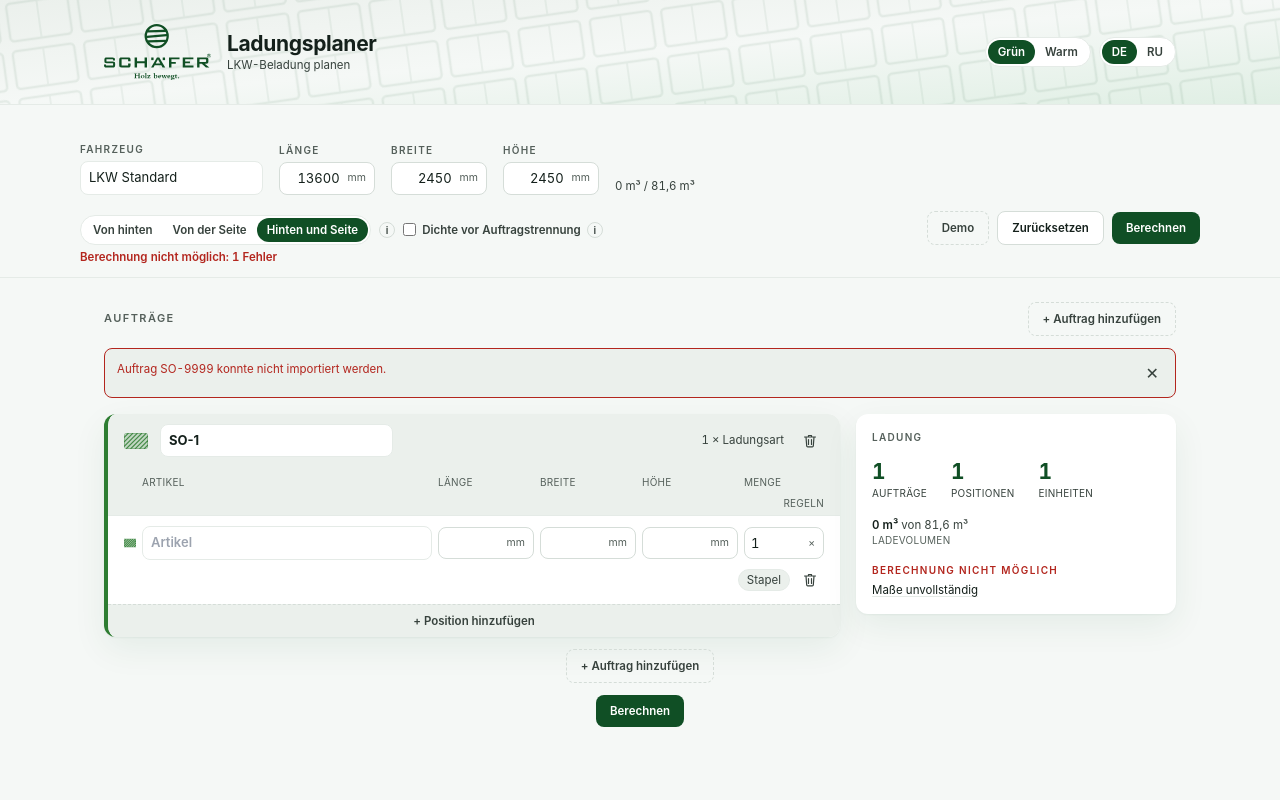
Scenario: SetupScreen — deep-link импорта заказа (s17) › заметку можно закрыть
Click the button named "Hinweis schließen" at (1152,373), box top-left (1142, 361), bottom-right (1163, 385)
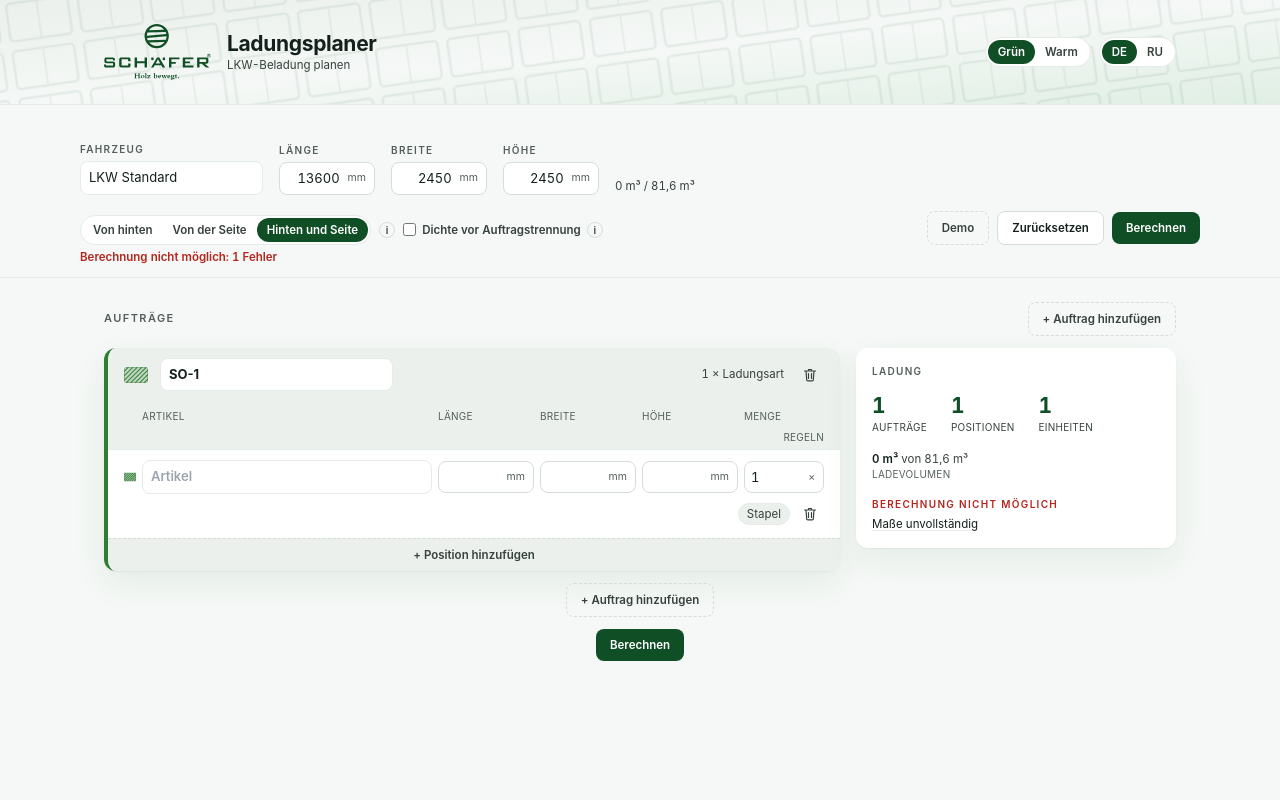
Check: the message with test id "import-failure-notice" is gone
